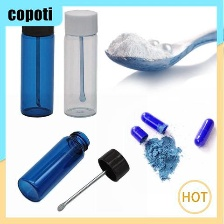bottle: (14, 127, 92, 208), (58, 6, 104, 121), (18, 16, 57, 120)
